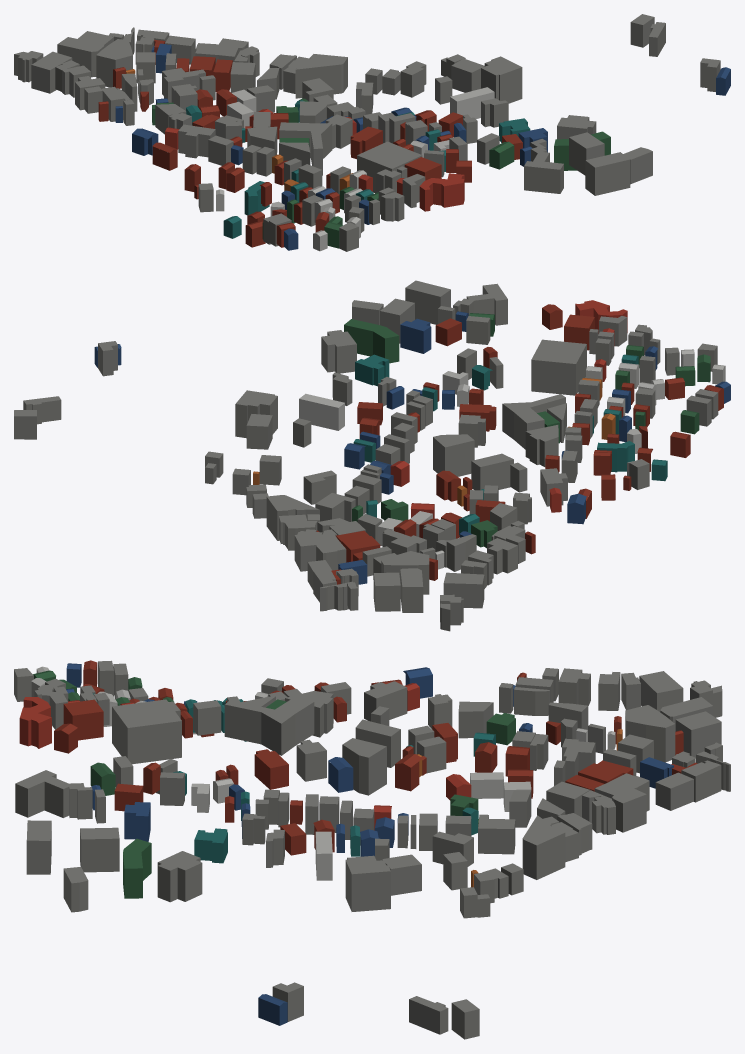
Rendered from near-16-54721-29739.95463560.glb.
3 views of the same model, one above another, from view 1: azimuth 30°, elevation 25°; view 2: azimuth 150°, elevation 25°; view 3: azimuth 270°, elevation 25° (orthographic). The views are drawn at different scales.
Size of the model in its own units: 612 by 97.24 by 589.
